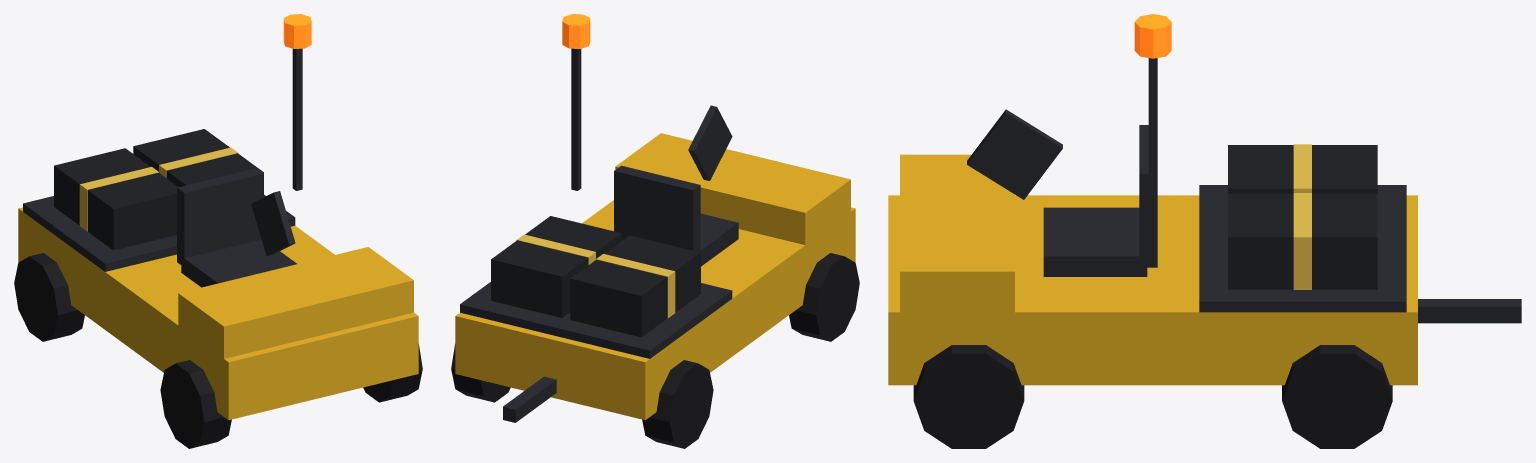
Rendered from baggage_tug.glb.
3 views of the same model, side by side, from view 1: azimuth 30°, elevation 25°; view 2: azimuth 150°, elevation 25°; view 3: azimuth 270°, elevation 25° (orthographic). The views are drawn at different scales.
Visible parts, largest first — view 1: body_tug_yellow, suitcases_suitcase_black, wheels_tire, seat_airport_dark, bed_airport_dark, wheel_airport_dark, ribbons_ribbon_yellow, beacon_airport_dark, beacon_beacon_orange; view 2: body_tug_yellow, suitcases_suitcase_black, wheels_tire, seat_airport_dark, bed_airport_dark, wheel_airport_dark, ribbons_ribbon_yellow, beacon_airport_dark, towbar_airport_dark, beacon_beacon_orange; view 3: body_tug_yellow, suitcases_suitcase_black, wheels_tire, bed_airport_dark, seat_airport_dark, wheel_airport_dark, ribbons_ribbon_yellow, towbar_airport_dark, beacon_airport_dark, beacon_beacon_orange.
Part boxes in pixels (x1,y1,x2,y2): body_tug_yellow: (18,207,418,420); suitcases_suitcase_black: (54,129,263,250); wheels_tire: (14,253,422,448); seat_airport_dark: (177,168,296,287); bed_airport_dark: (23,195,295,271); wheel_airport_dark: (251,191,295,255); ribbons_ribbon_yellow: (79,147,237,231); beacon_airport_dark: (292,48,302,190); beacon_beacon_orange: (283,14,311,48); body_tug_yellow: (455,133,855,420); suitcases_suitcase_black: (491,216,700,337); wheels_tire: (451,253,859,448); seat_airport_dark: (614,165,738,266); bed_airport_dark: (460,282,732,358); wheel_airport_dark: (688,105,732,180); ribbons_ribbon_yellow: (516,234,675,318); beacon_airport_dark: (571,48,581,190); towbar_airport_dark: (503,376,556,422); beacon_beacon_orange: (562,14,590,48); body_tug_yellow: (888,154,1417,385); suitcases_suitcase_black: (1228,145,1377,289); wheels_tire: (913,345,1392,448); bed_airport_dark: (1199,185,1406,312); seat_airport_dark: (1043,125,1157,276); wheel_airport_dark: (967,109,1062,199); ribbons_ribbon_yellow: (1293,144,1311,289); towbar_airport_dark: (1418,299,1521,323); beacon_airport_dark: (1148,58,1157,236); beacon_beacon_orange: (1134,14,1171,58).
Size of the model in its own units: 1.38 by 1.96 by 2.75.
